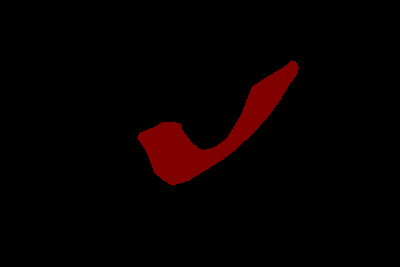fire: (137, 60, 298, 185)
